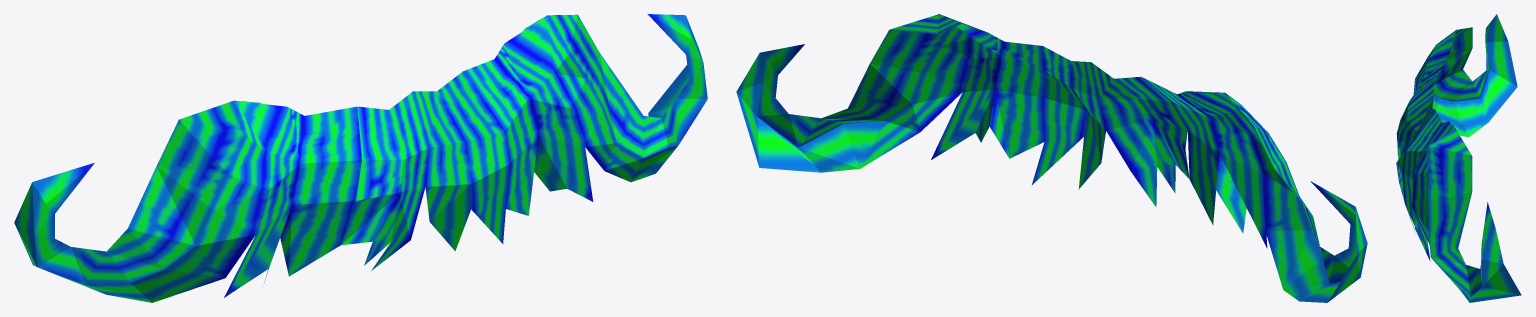
Rendered from moustache.fbx.
3 views of the same model, side by side, from view 1: azimuth 30°, elevation 25°; view 2: azimuth 150°, elevation 25°; view 3: azimuth 270°, elevation 25° (orthographic). The views are drawn at different scales.
Parts seen in each view (by area): view 1: Moustache; view 2: Moustache; view 3: Moustache.
Part boxes in pixels (left/top/right/bottom): Moustache: left=14, top=14, right=707, bottom=302; Moustache: left=736, top=14, right=1367, bottom=302; Moustache: left=1396, top=14, right=1521, bottom=302.
Size of the model in its own units: 43.7 by 12.29 by 10.11.
